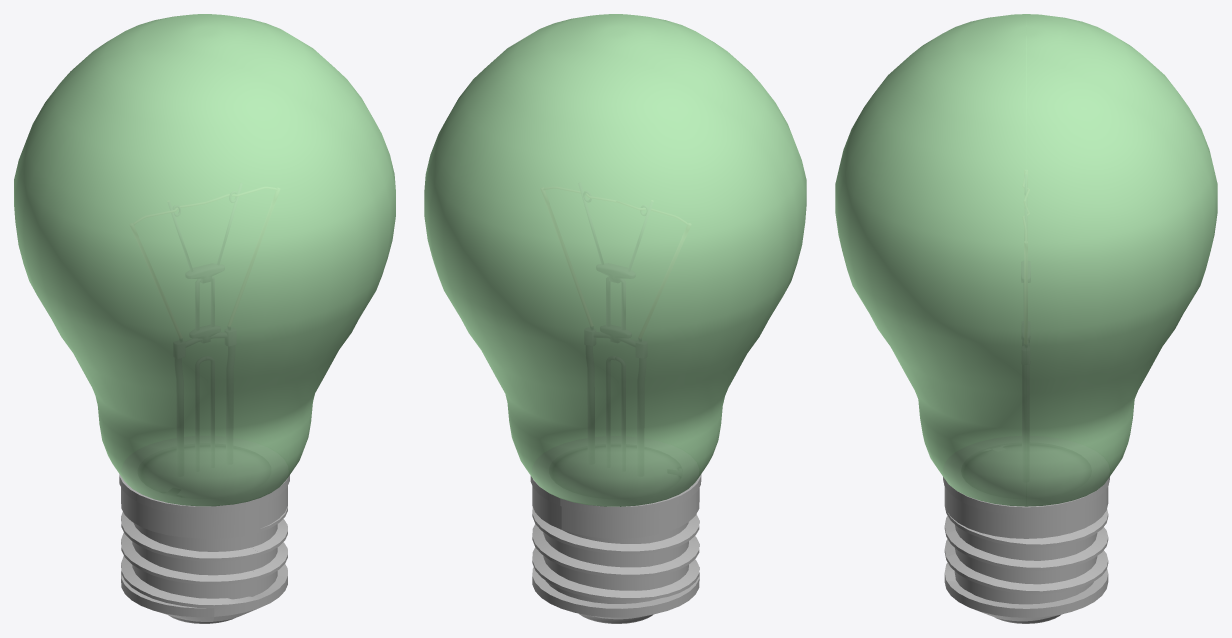
The model's file is bulb_open.gltf.
3 renders of one model, left to right at view 1: azimuth 30°, elevation 25°; view 2: azimuth 150°, elevation 25°; view 3: azimuth 270°, elevation 25°, orthographic.
Visible parts, largest first — view 1: GeodeCylinder.002, GeodeCylinder.003; view 2: GeodeCylinder.002, GeodeCylinder.003; view 3: GeodeCylinder.002, GeodeCylinder.003.
Boxes of the visible parts, x1,y1,x2,y2 form: GeodeCylinder.002: [14, 14, 395, 506]; GeodeCylinder.003: [119, 474, 289, 623]; GeodeCylinder.002: [424, 14, 806, 506]; GeodeCylinder.003: [530, 474, 701, 623]; GeodeCylinder.002: [835, 14, 1217, 506]; GeodeCylinder.003: [943, 477, 1109, 623].
Bounding box in the file's own units: 3.47 × 5.79 × 3.47.
